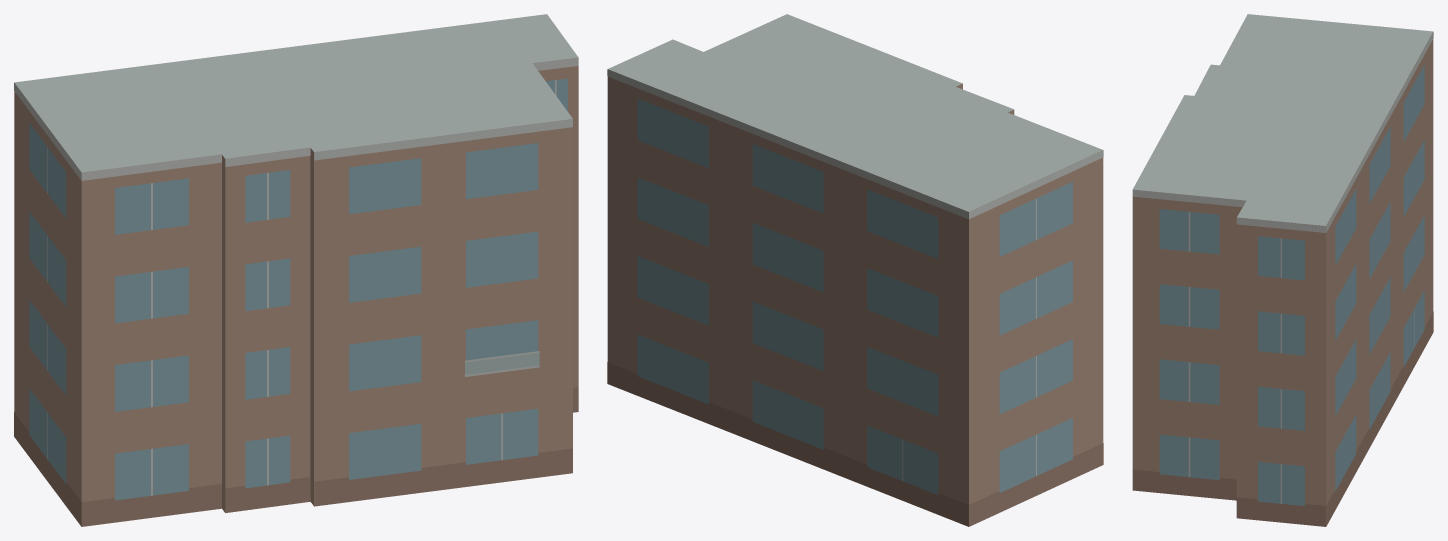
File: survey-upis-32643032.glb
3 views of the same model, side by side, from view 1: azimuth 30°, elevation 25°; view 2: azimuth 150°, elevation 25°; view 3: azimuth 270°, elevation 25° (orthographic). The views are drawn at different scales.
Visible parts, largest first — view 1: survey-upis-32643032.tmp; view 2: survey-upis-32643032.tmp; view 3: survey-upis-32643032.tmp.
Boxes of the visible parts, x1=… form: survey-upis-32643032.tmp: x1=14, y1=14, x2=578, y2=526; survey-upis-32643032.tmp: x1=607, y1=14, x2=1103, y2=526; survey-upis-32643032.tmp: x1=1132, y1=14, x2=1433, y2=526.
Bounding box in the file's own units: 15.81 × 10.45 × 9.48.
